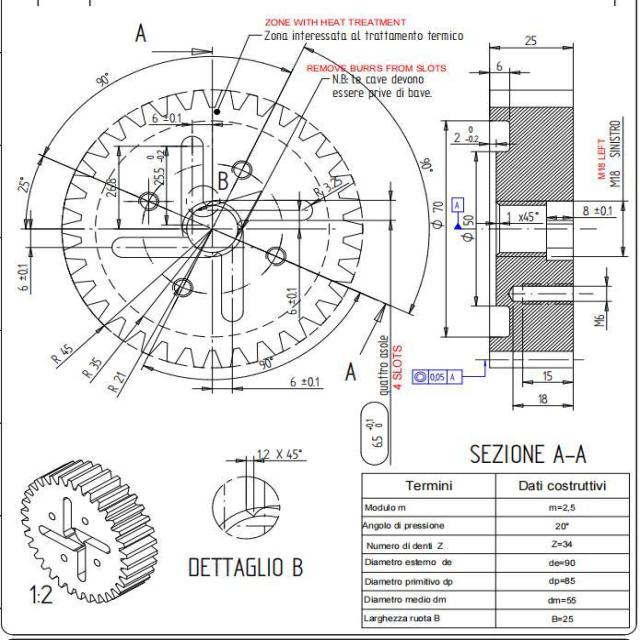Detail view: (180, 446, 332, 583)
Isometric view: (13, 458, 165, 613)
Sectional view: (414, 33, 629, 408)
Table 1: (356, 468, 634, 634)
Top view: (14, 18, 417, 405)
text1: (466, 444, 600, 468)
